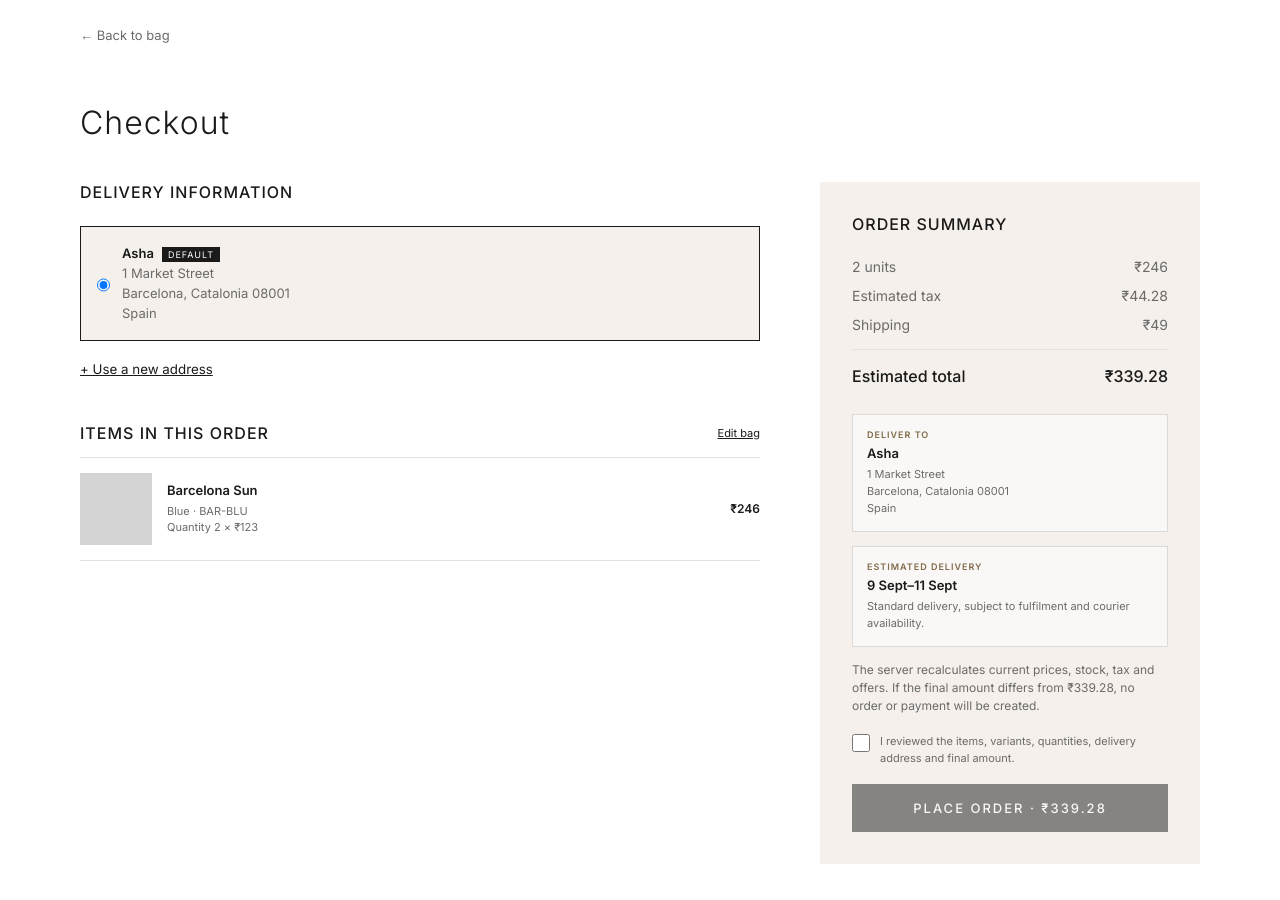
requires review of exact variants, address and final total before placing order
The width and height of the screenshot is (1280, 900).
Expected: the text "Barcelona Sun" is shown, [167,482,258,498]
Expected: the text "Blue · BAR-BLU" is shown, [167,504,248,518]
Click the checkbox labelled "I reviewed the items, variants, quantities".
click(861, 743)  # box [852,734,870,752]
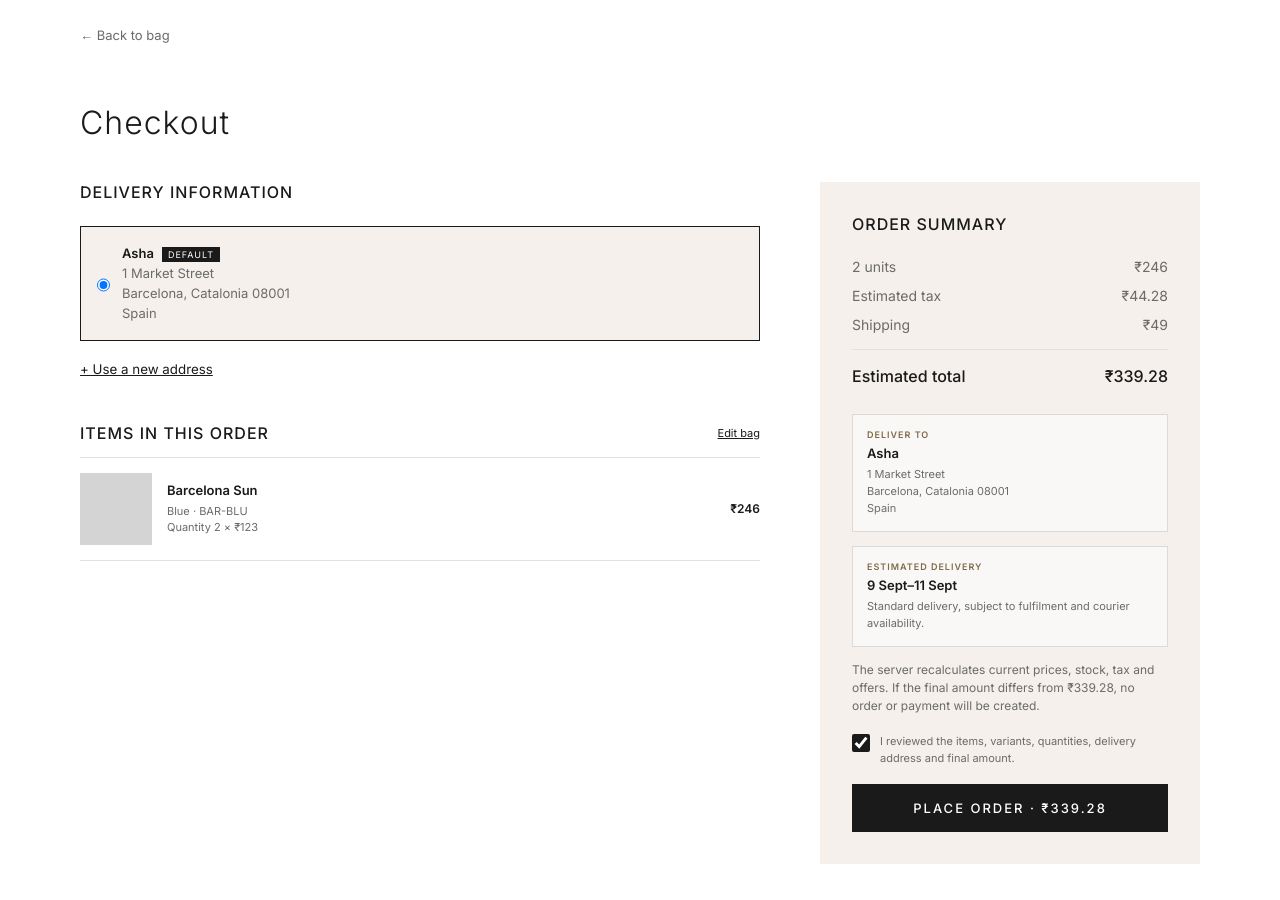
Result: the button "Place order · ₹339.28" is enabled at [852,784,1168,832]
